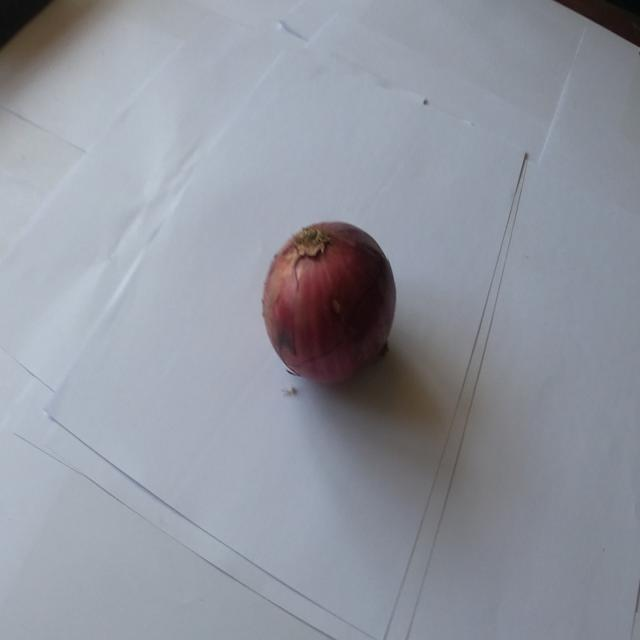Onion: (236, 184, 413, 436)
